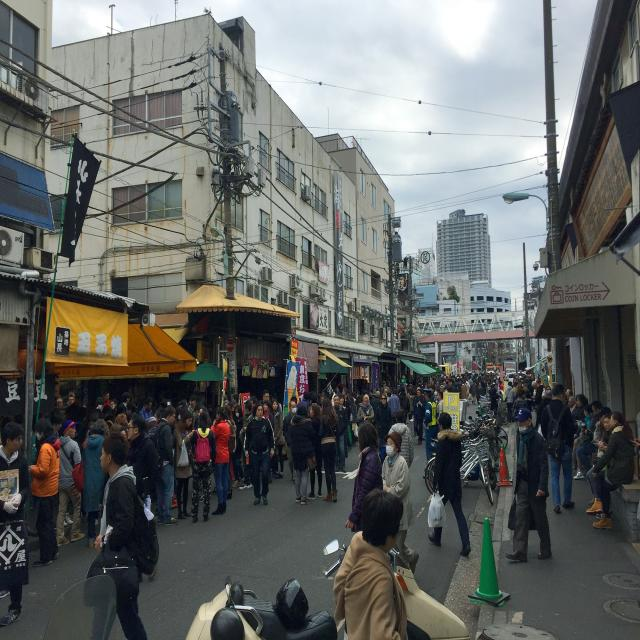body: (0, 360, 578, 456), (84, 435, 159, 640), (332, 487, 410, 640), (505, 406, 554, 563), (0, 420, 33, 630), (426, 411, 473, 557), (586, 410, 638, 531), (380, 430, 420, 578), (126, 414, 160, 581), (28, 416, 62, 567), (540, 382, 576, 514), (344, 422, 384, 535), (80, 417, 111, 550), (55, 420, 86, 548), (242, 402, 276, 506), (188, 409, 218, 523), (285, 402, 318, 505), (152, 405, 179, 528), (586, 406, 613, 507), (316, 397, 341, 502), (210, 405, 232, 517), (174, 410, 195, 519), (306, 403, 323, 500), (387, 409, 414, 468), (570, 406, 594, 470), (629, 424, 640, 559), (422, 388, 438, 480), (238, 400, 254, 490), (332, 394, 348, 474), (282, 400, 297, 485), (231, 404, 246, 488), (578, 400, 604, 447), (270, 399, 285, 478), (374, 393, 392, 452), (412, 387, 427, 445), (531, 381, 544, 432), (339, 394, 349, 458), (503, 380, 517, 425), (537, 389, 553, 426), (357, 393, 375, 425), (512, 389, 530, 421), (396, 385, 410, 425), (598, 414, 612, 453), (349, 397, 359, 448), (573, 393, 588, 427), (387, 389, 401, 425), (262, 399, 275, 433), (117, 391, 133, 416), (566, 396, 582, 421), (259, 388, 273, 415), (435, 391, 444, 433), (342, 387, 352, 422), (490, 382, 500, 415), (139, 399, 153, 422), (371, 391, 381, 418), (459, 382, 468, 412), (469, 380, 478, 406), (296, 391, 310, 407), (475, 382, 484, 406), (380, 380, 390, 394), (102, 391, 111, 406), (406, 386, 412, 401)
